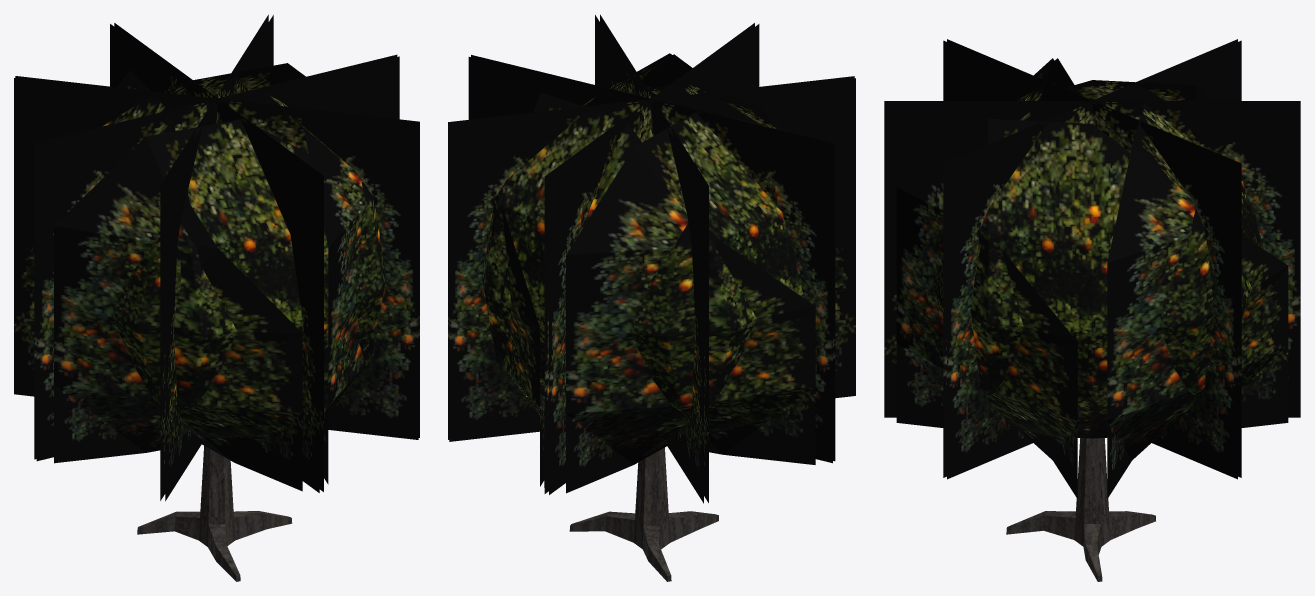
The model's file is tree03.gltf.
The picture shows the model from 3 angles, left to right: view 1: azimuth 30°, elevation 25°; view 2: azimuth 150°, elevation 25°; view 3: azimuth 270°, elevation 25°; orthographic projection.
Visible parts, largest first — view 1: tree03_top, tree03; view 2: tree03_top, tree03; view 3: tree03_top, tree03.
Part boxes in pixels (<box>): tree03_top: <box>14,14,419,501</box>; tree03: <box>137,446,292,581</box>; tree03_top: <box>448,14,855,503</box>; tree03: <box>569,447,718,581</box>; tree03_top: <box>884,39,1300,498</box>; tree03: <box>1006,438,1155,581</box>.
Bounding box in the file's own units: 3.36 × 3.94 × 3.36.
Materials: 1 (1 with a texture image).
